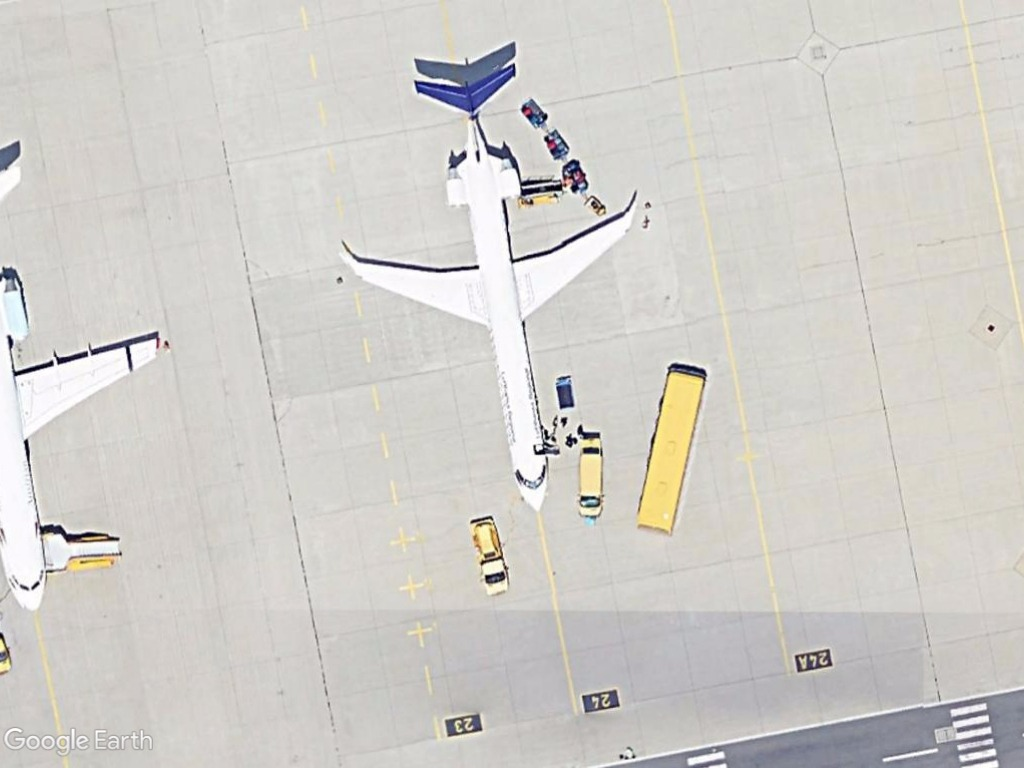bus: (629, 359, 712, 537)
chartered: (326, 58, 650, 516)
van: (569, 436, 610, 524)
